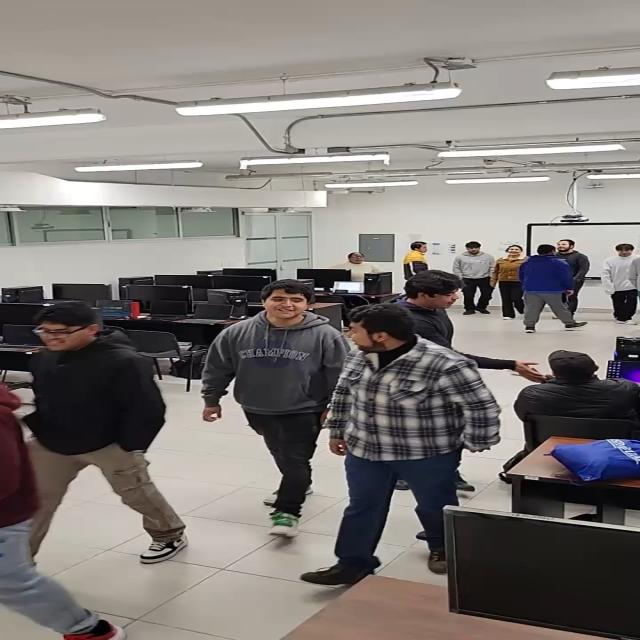Persona: (24, 304, 190, 578), (336, 302, 484, 584), (196, 274, 334, 539), (513, 244, 589, 333), (600, 242, 640, 326), (454, 239, 491, 320), (495, 240, 526, 318)
